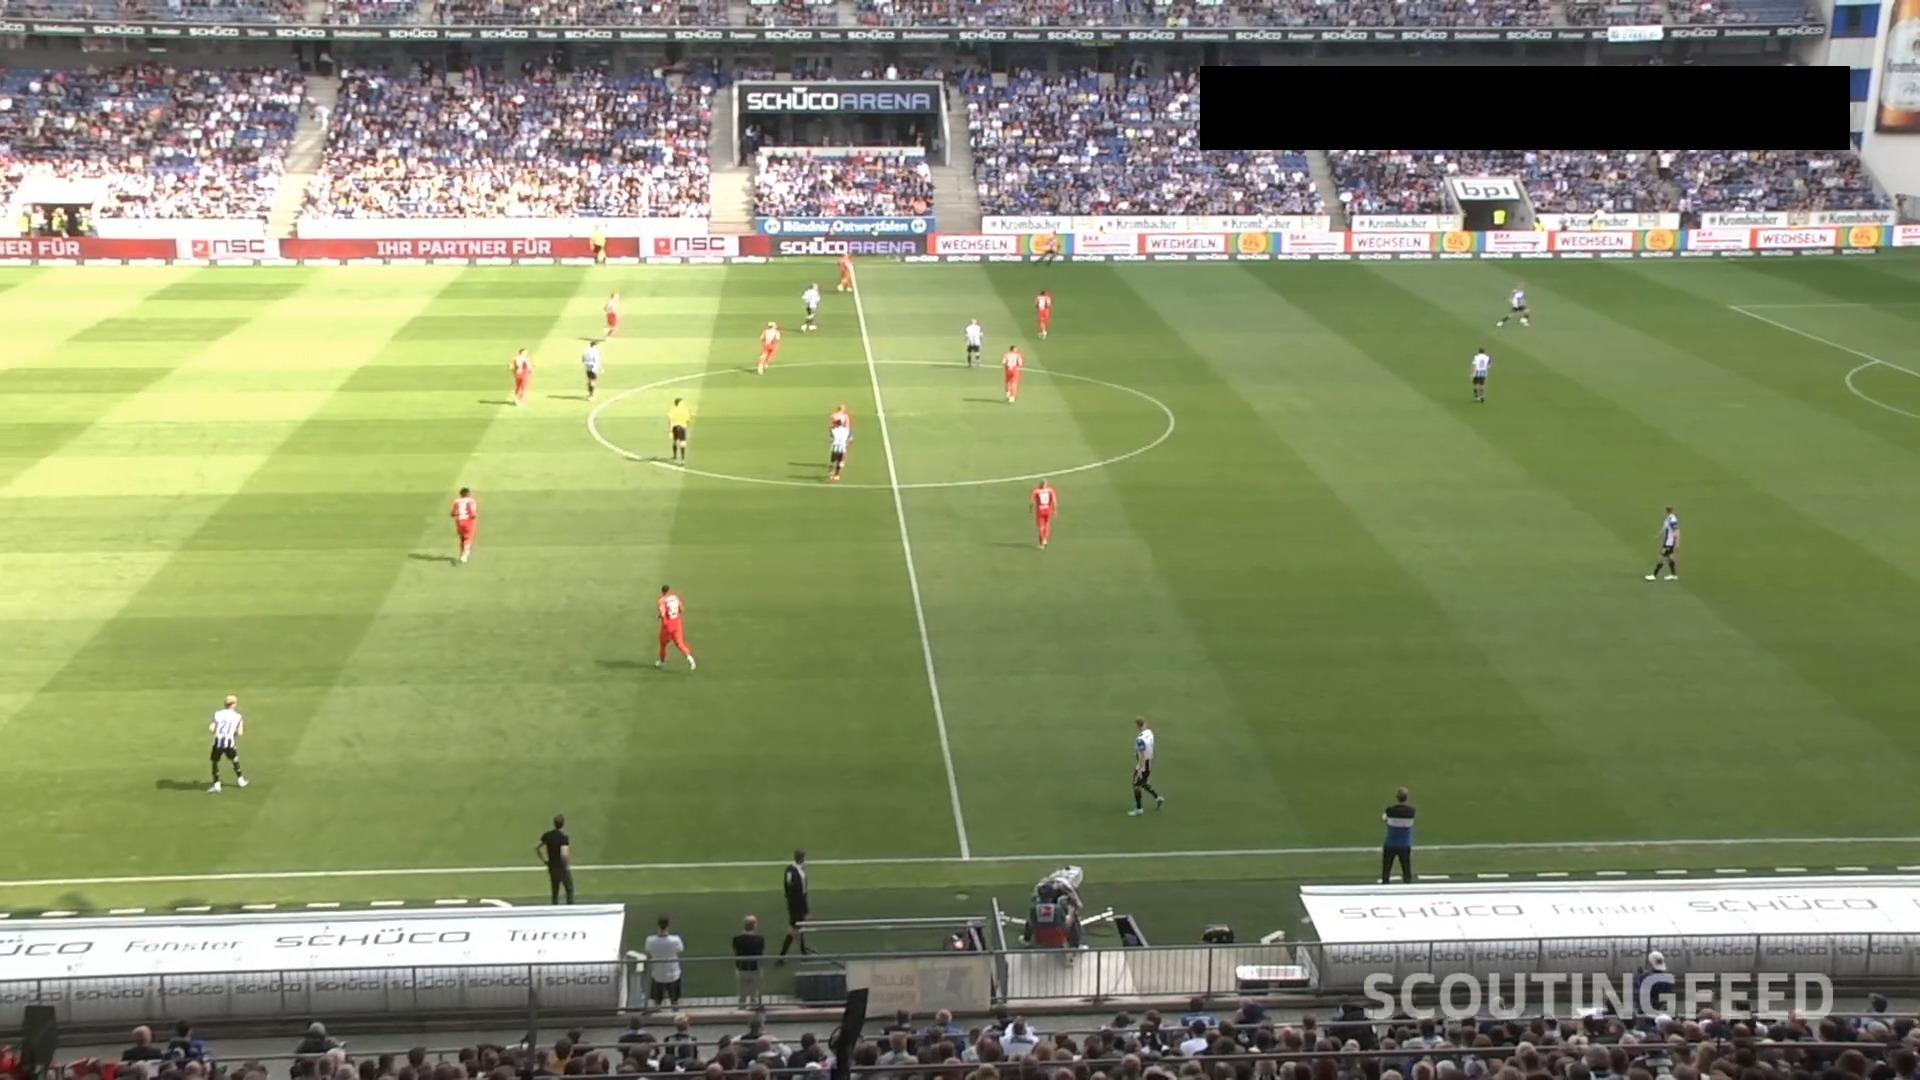ball: (1519, 315, 1528, 326)
